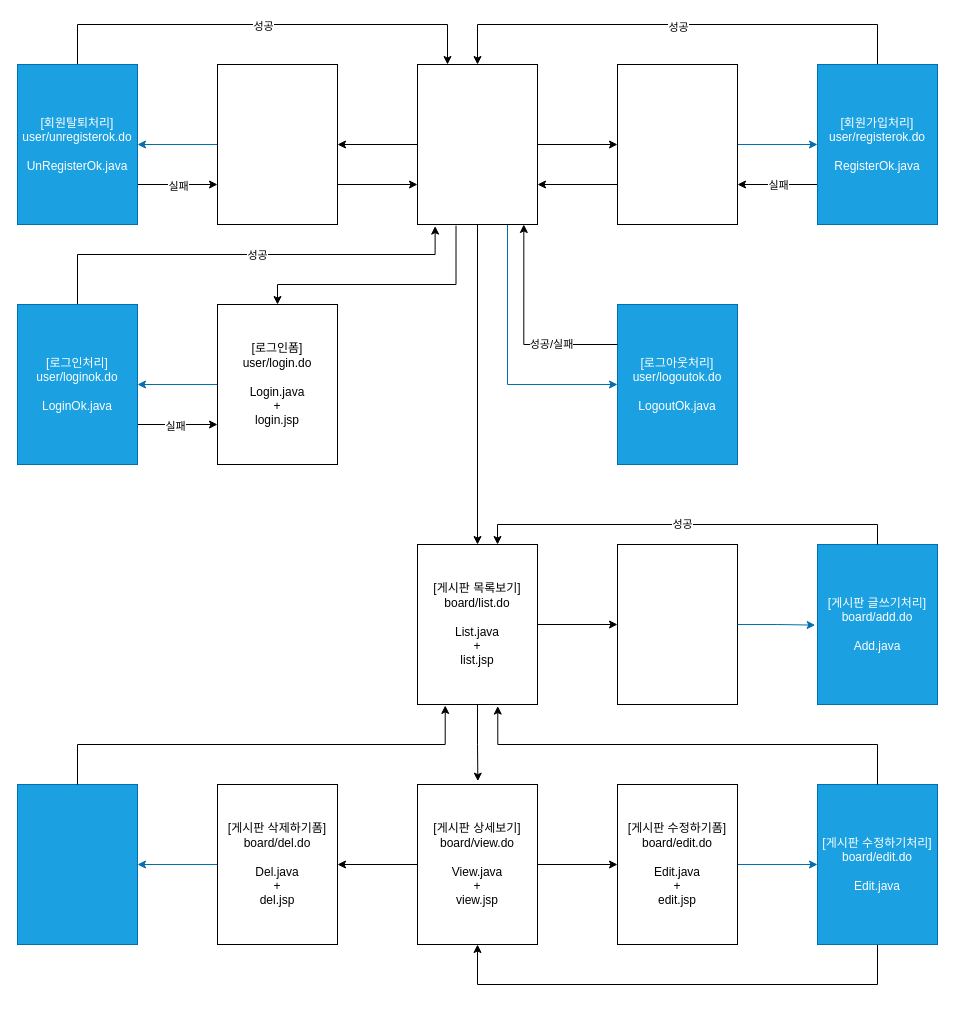
This 955x1010 diagram has some shape labels left out. The shapes that lost their labels are listed below. From the top down, each one's box as (x1, y1, x2, y2) in pixels, then its label:
(216, 64, 338, 224): [회원탈퇴] user/unregister.do Unregister.java + unregister.jsp
(416, 64, 538, 224): [시작] index.do Index.java + index.jsp
(616, 64, 738, 224): [회원가입폼] user/register.do Register.java + register.jsp
(616, 544, 738, 704): [게시판 글쓰기폼] board/add.do Add.java + add.jsp
(16, 784, 138, 944): [게시판 삭제하기처리] board/del.do Del.java
